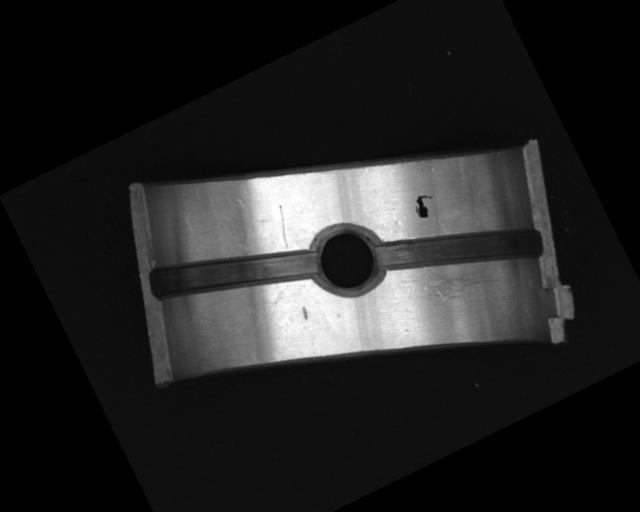blot: (409, 189, 441, 222)
bruise: (297, 304, 312, 322)
gap: (372, 179, 547, 320), (146, 204, 323, 342)
hole: (298, 211, 394, 306)
nick: (266, 203, 299, 249)
scratch: (399, 235, 507, 319)
